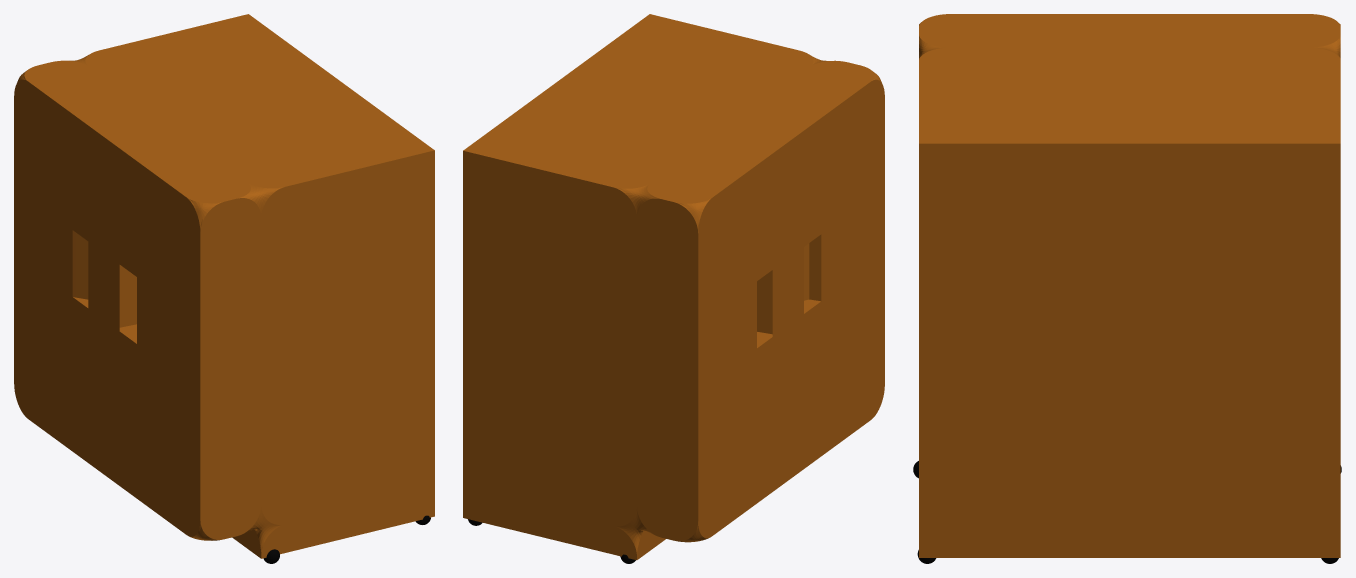
The model's file is fridge.fbx.
3 views of the same model, side by side, from view 1: azimuth 30°, elevation 25°; view 2: azimuth 150°, elevation 25°; view 3: azimuth 270°, elevation 25° (orthographic). The views are drawn at different scales.
Parts seen in each view (by area): view 1: Cube; view 2: Cube; view 3: Cube.
Boxes of the visible parts, <box> form: Cube: <box>14,14,434,558</box>; Cube: <box>463,14,884,560</box>; Cube: <box>919,14,1340,557</box>.
Size of the model in its own units: 858 by 1310 by 1200.
